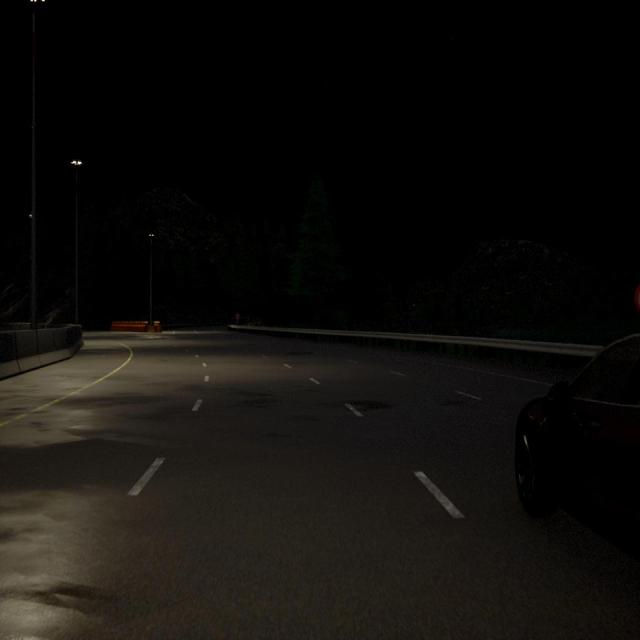Traffic_Signs: (634, 286, 640, 312), (236, 314, 240, 320)
Vehicle: (515, 334, 639, 557)
